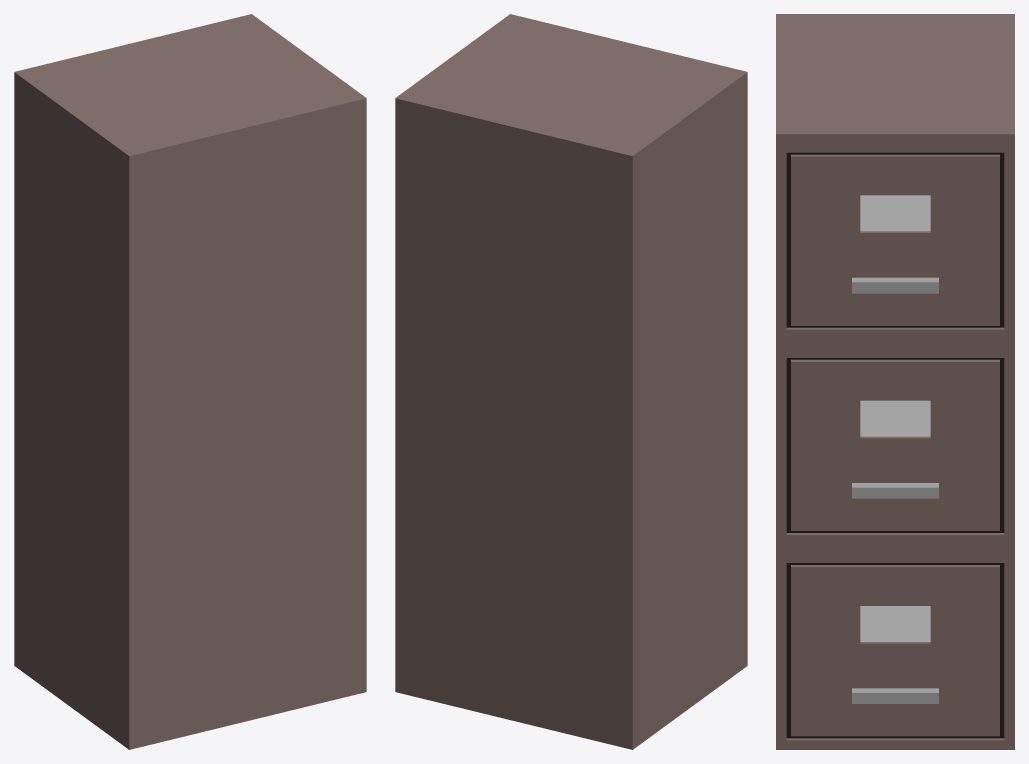
File: Arquivo3.fbx
3 renders of one model, left to right at view 1: azimuth 30°, elevation 25°; view 2: azimuth 150°, elevation 25°; view 3: azimuth 270°, elevation 25°, orthographic. The views are drawn at different scales.
Parts seen in each view (by area): view 1: Cube; view 2: Cube; view 3: Cube.
Boxes of the visible parts, left/top/right/bottom form: Cube: left=14, top=14, right=366, bottom=749; Cube: left=395, top=14, right=747, bottom=749; Cube: left=776, top=14, right=1014, bottom=749.
Bounding box in the file's own units: 248 × 569 × 200.
